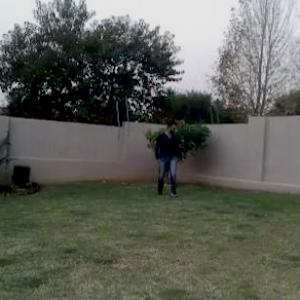follow: (156, 116, 181, 198)
